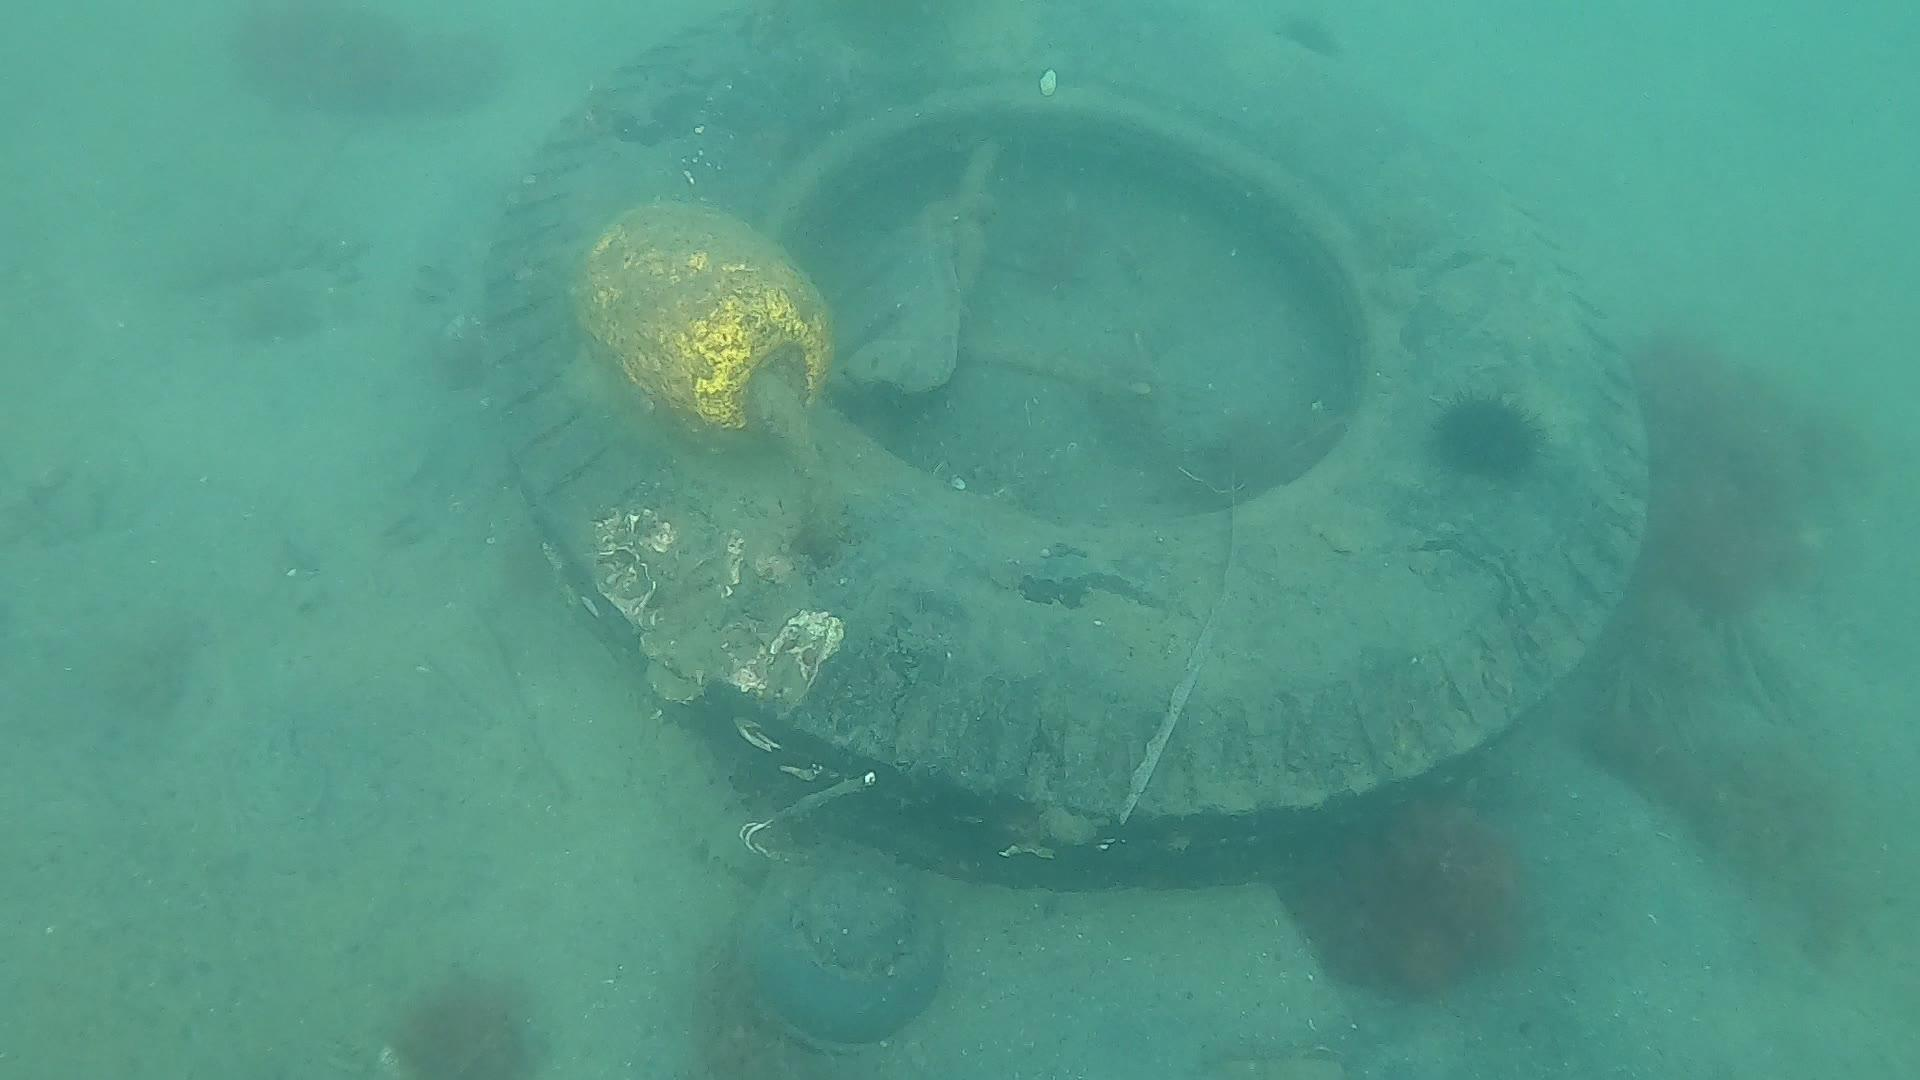tire: (481, 0, 1644, 887)
